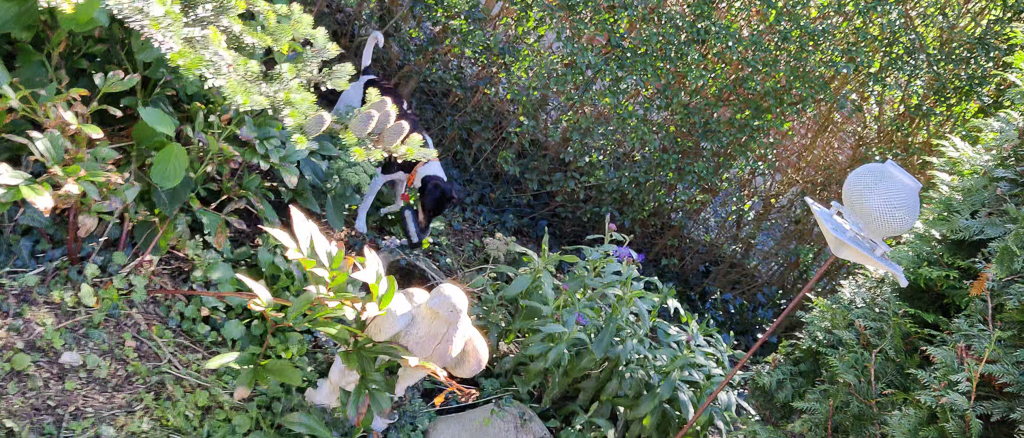Dog: (297, 24, 471, 257)
Eagle: (293, 275, 499, 438)
